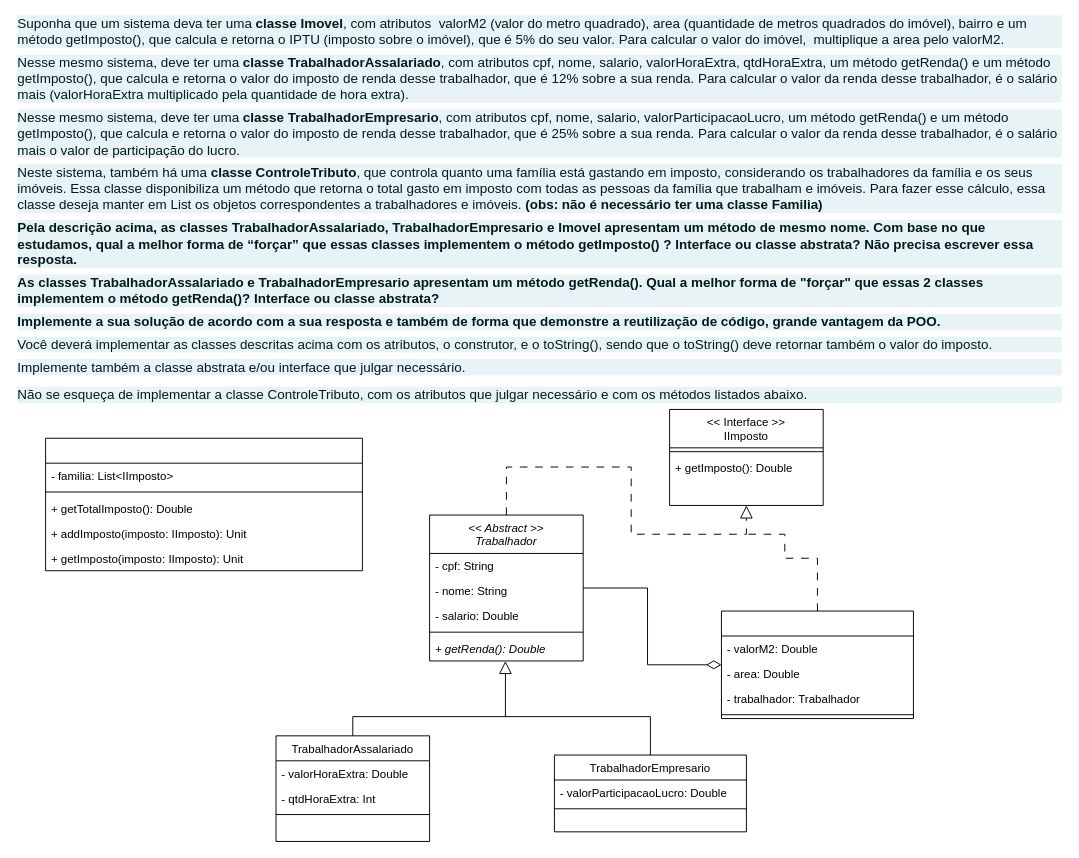
This 1079x858 diagram has some shape labels left out. Each missing label, with the box of its shape:
ControleImposto: (45, 437, 362, 571)
Imovel: (720, 610, 913, 719)
